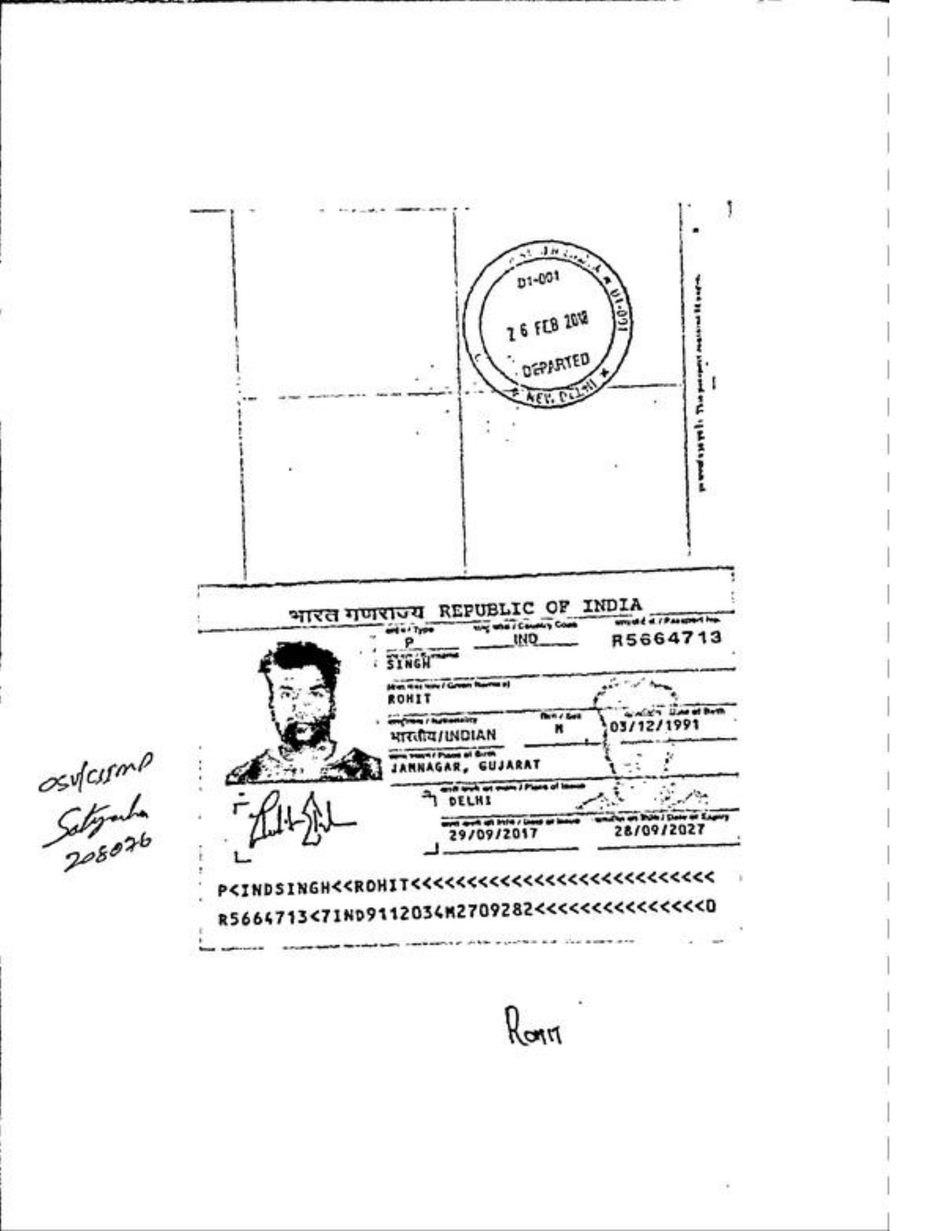DOB: (598, 711, 714, 737)
Surname: (385, 651, 434, 678)
country_code: (505, 629, 553, 651)
date_of_expiry: (604, 817, 717, 844)
date_of_issue: (446, 822, 552, 846)
details: (210, 867, 736, 930)
name: (379, 688, 440, 715)
nationality: (382, 723, 501, 750)
passport_no: (600, 626, 731, 652)
photo: (219, 638, 381, 781)
place_of_birth: (391, 759, 554, 779)
place_of_issue: (444, 790, 496, 813)
sex: (538, 717, 576, 741)
sign: (239, 795, 363, 846)
type: (390, 631, 428, 653)
